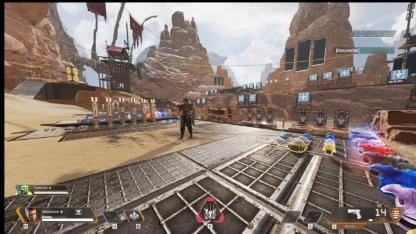Target: (178, 96, 196, 138)
